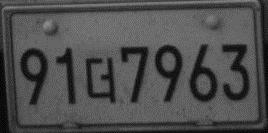1: (51, 45, 82, 107)
3: (220, 42, 250, 100)
6: (188, 41, 218, 103)
7: (118, 44, 149, 104)
9: (153, 43, 184, 103), (19, 47, 49, 106)
더: (84, 56, 117, 106)
